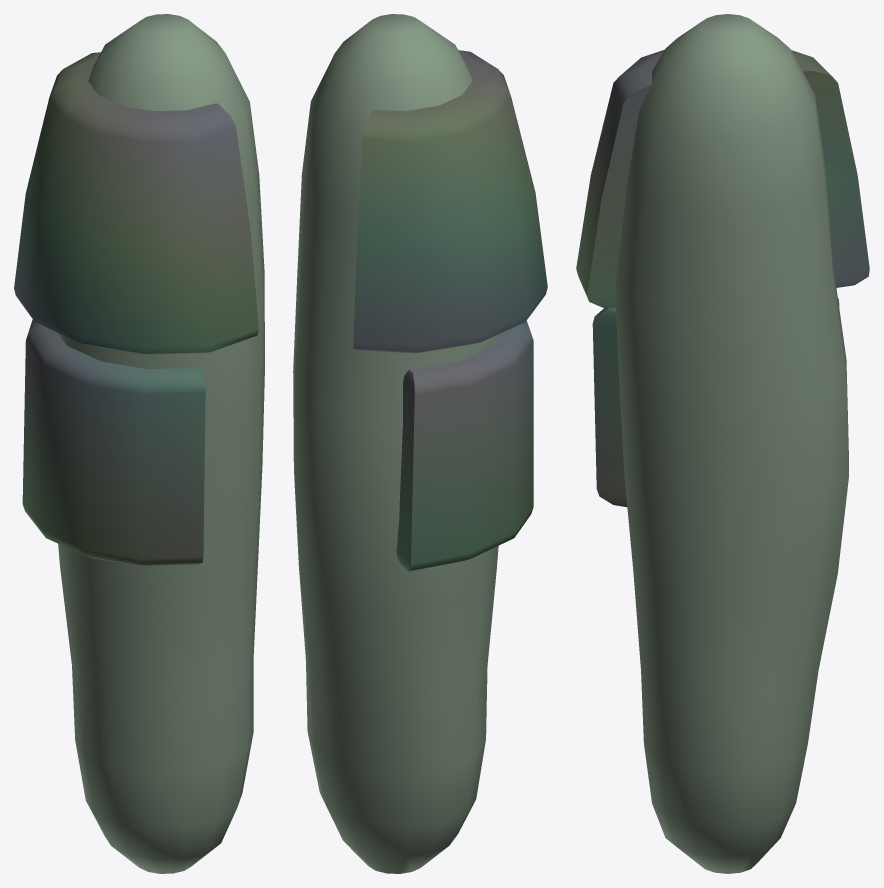
Rendered from upper_arm_l.glb.
3 renders of one model, left to right at view 1: azimuth 30°, elevation 25°; view 2: azimuth 150°, elevation 25°; view 3: azimuth 270°, elevation 25°, orthographic.
Parts seen in each view (by area): view 1: OUT; view 2: OUT; view 3: OUT.
Boxes of the visible parts, left/top/right/bottom form: OUT: left=14, top=14, right=264, bottom=873; OUT: left=293, top=14, right=547, bottom=873; OUT: left=576, top=14, right=869, bottom=873.
Bounding box in the file's own units: 0.0929 × 0.344 × 0.1095.
